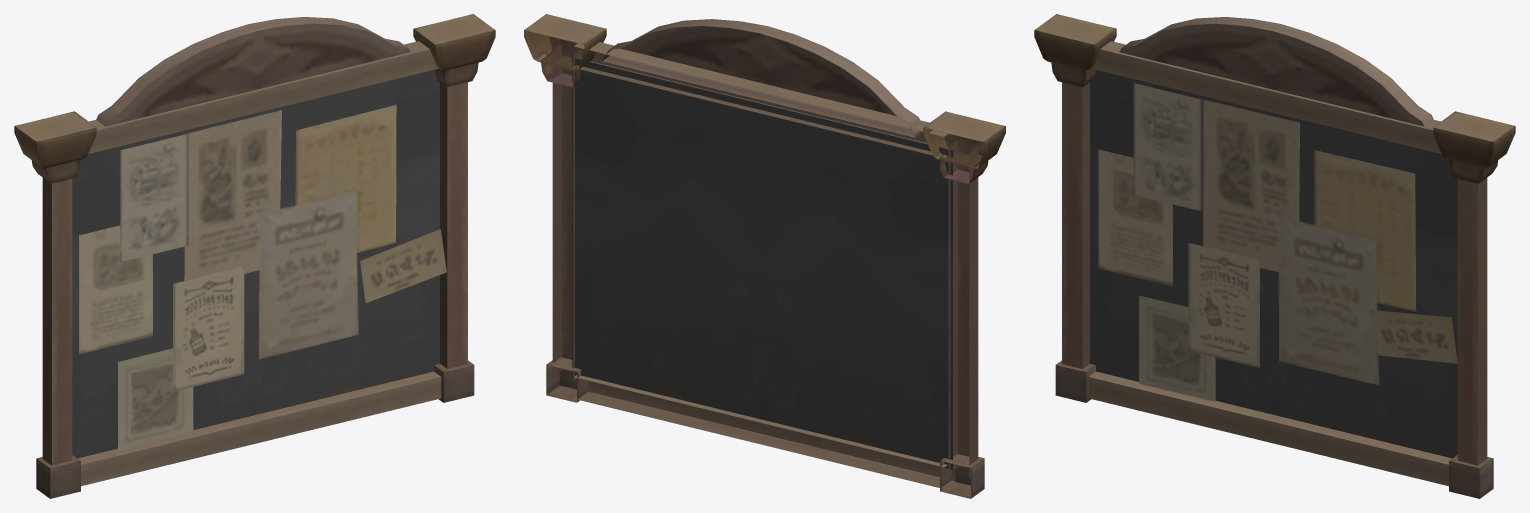
Rendered from Homeworld_Interior_Md_Walldecoration_Sign_01_Vo.fbx.
The picture shows the model from 3 angles, left to right: view 1: azimuth 30°, elevation 25°; view 2: azimuth 150°, elevation 25°; view 3: azimuth 330°, elevation 25°; orthographic projection.
Visible parts, largest first — view 1: Homeworld_Interior_Md_Walldecoration_Sign_01_Vo; view 2: Homeworld_Interior_Md_Walldecoration_Sign_01_Vo; view 3: Homeworld_Interior_Md_Walldecoration_Sign_01_Vo.
Boxes of the visible parts, bbox=[...] form: Homeworld_Interior_Md_Walldecoration_Sign_01_Vo: bbox=[14, 14, 495, 498]; Homeworld_Interior_Md_Walldecoration_Sign_01_Vo: bbox=[524, 14, 1005, 498]; Homeworld_Interior_Md_Walldecoration_Sign_01_Vo: bbox=[1034, 14, 1515, 498].
Size of the model in its own units: 1.55 by 1.33 by 0.1288.
